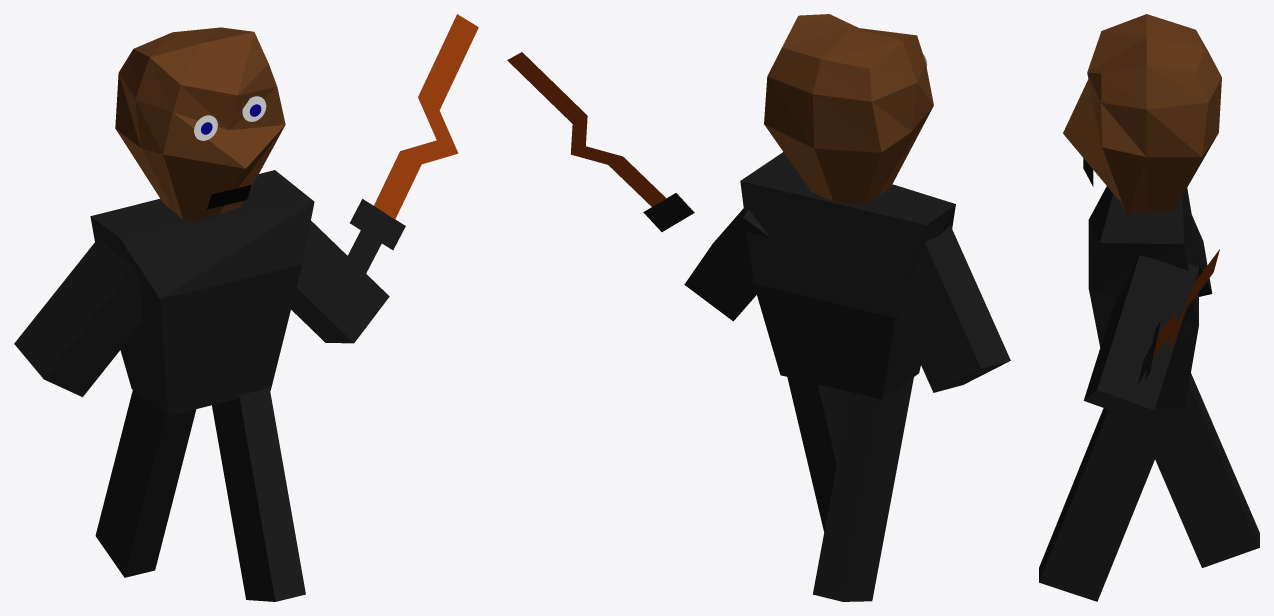
File: swordsman2.obj
3 views of the same model, side by side, from view 1: azimuth 30°, elevation 25°; view 2: azimuth 150°, elevation 25°; view 3: azimuth 270°, elevation 25° (orthographic).
Visible parts, largest first — view 1: Cube.001, Cube, Cube.005, Cube.003, Cube.004, Cube.002, Plane.003_Plane.004, Plane.002_Plane.003, Plane.001_Plane.002; view 2: Cube.001, Cube, Cube.004, Cube.003, Cube.005, Cube.002, Plane.003_Plane.004, Plane.002_Plane.003; view 3: Cube, Cube.005, Cube.001, Cube.004, Cube.002, Plane.003_Plane.004, Cube.003.
Part boxes in pixels (left/top/right/bottom): Cube.001: left=90, top=170, right=314, bottom=415; Cube: left=115, top=27, right=285, bottom=220; Cube.005: left=212, top=388, right=305, bottom=601; Cube.003: left=14, top=238, right=142, bottom=397; Cube.004: left=95, top=390, right=196, bottom=577; Cube.002: left=291, top=221, right=389, bottom=343; Plane.003_Plane.004: left=374, top=14, right=478, bottom=219; Plane.002_Plane.003: left=350, top=199, right=405, bottom=250; Plane.001_Plane.002: left=347, top=227, right=381, bottom=273; Cube.001: left=740, top=152, right=955, bottom=399; Cube: left=764, top=14, right=933, bottom=204; Cube.004: left=812, top=377, right=913, bottom=601; Cube.003: left=898, top=225, right=1010, bottom=392; Cube.005: left=787, top=377, right=850, bottom=531; Cube.002: left=684, top=208, right=770, bottom=321; Plane.003_Plane.004: left=507, top=52, right=666, bottom=206; Plane.002_Plane.003: left=643, top=193, right=694, bottom=231; Cube: left=1063, top=14, right=1221, bottom=213; Cube.005: left=1039, top=408, right=1175, bottom=601; Cube.001: left=1088, top=186, right=1198, bottom=407; Cube.004: left=1155, top=373, right=1259, bottom=567; Cube.002: left=1083, top=255, right=1198, bottom=420; Plane.003_Plane.004: left=1152, top=249, right=1219, bottom=357; Cube.003: left=1192, top=215, right=1212, bottom=296.
Bounding box in the file's own units: 5.33 × 5.89 × 2.19.
